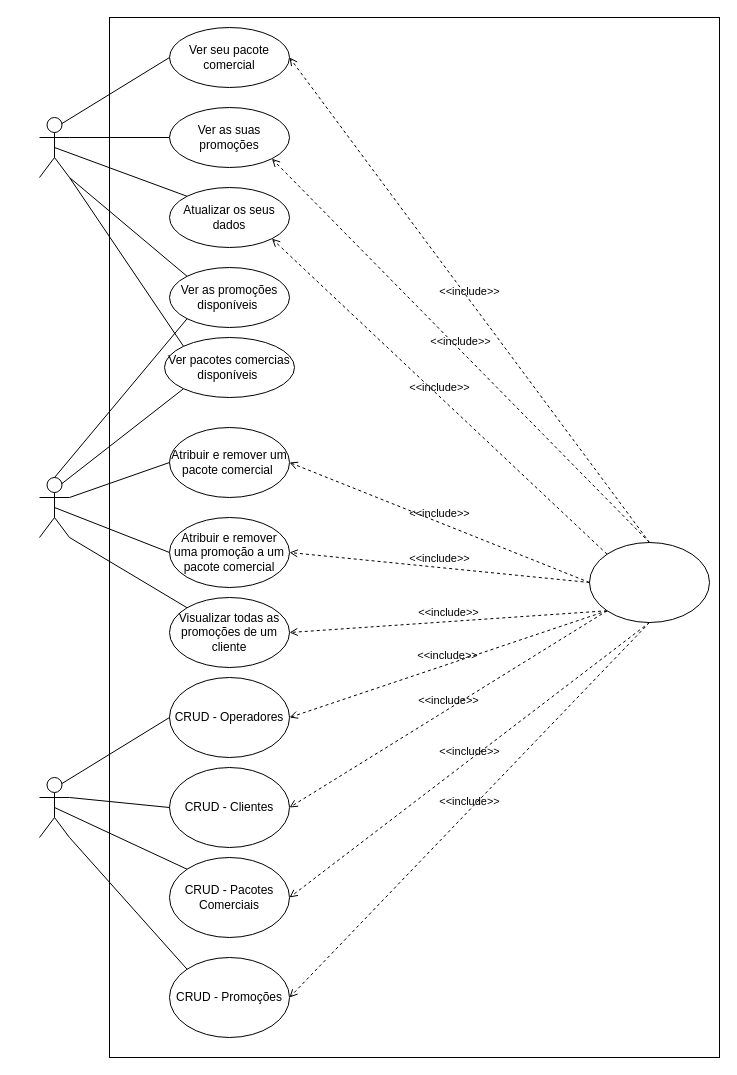
This 737x1075 diagram has some shape labels left out. The shapes that lost their labels are listed below. From the top down, each one's centre as x and y in pixels, then its label:
At [54,147]: "Cliente".
At [54,507]: "Operador".
At [649,582]: "Login".
At [54,807]: "Administrador".
